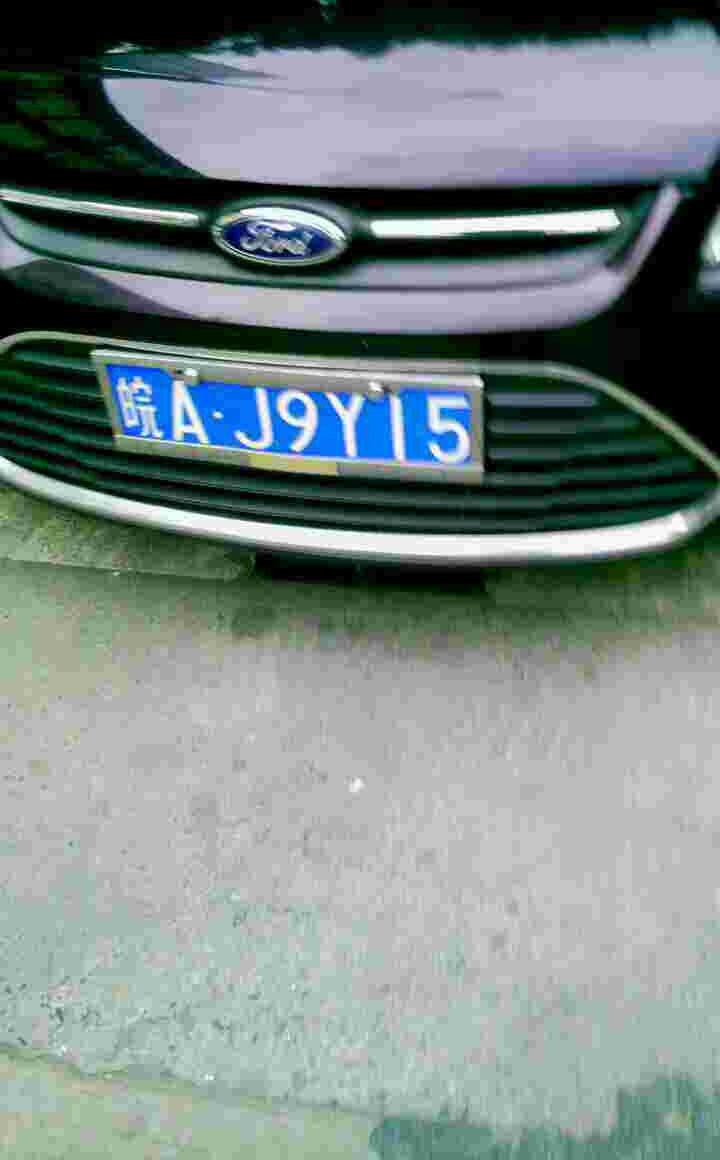license_plate: (116, 367, 481, 466)
